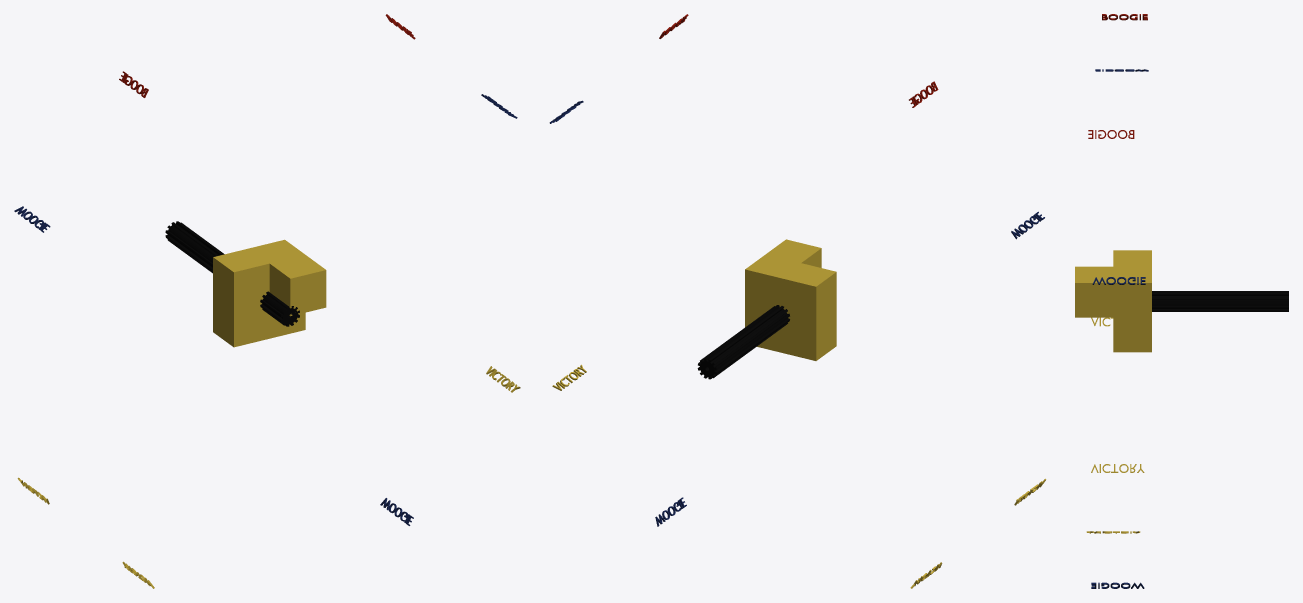
File: rot_long_bridge1.gltf
The picture shows the model from 3 angles, left to right: view 1: azimuth 30°, elevation 25°; view 2: azimuth 150°, elevation 25°; view 3: azimuth 270°, elevation 25°; orthographic projection. The views are drawn at different scales.
Visible parts, largest first — view 1: rot.long.bridge1; view 2: rot.long.bridge1; view 3: rot.long.bridge1.
Boxes of the visible parts, x1,y1,x2,y2 form: rot.long.bridge1: (14,14,520,588); rot.long.bridge1: (549,14,1046,588); rot.long.bridge1: (1075,14,1288,588).
Bounding box in the file's own units: 39.58 × 39.58 × 16.71.
